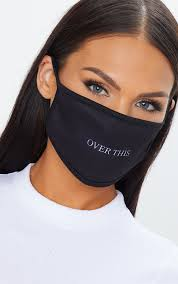with-mask: (26, 6, 178, 189)
